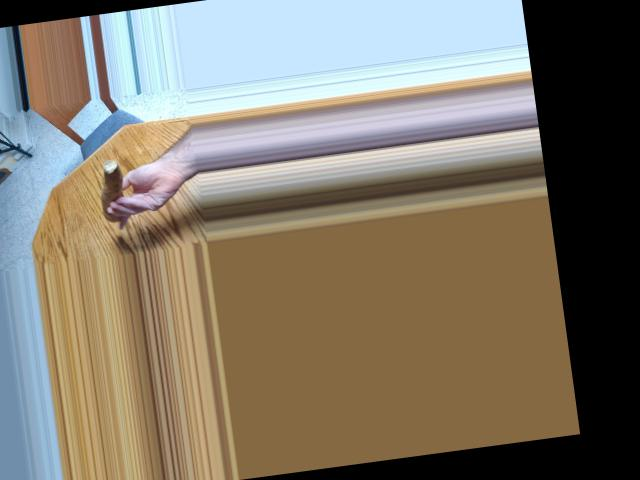sweet_potato: (93, 160, 133, 216)
